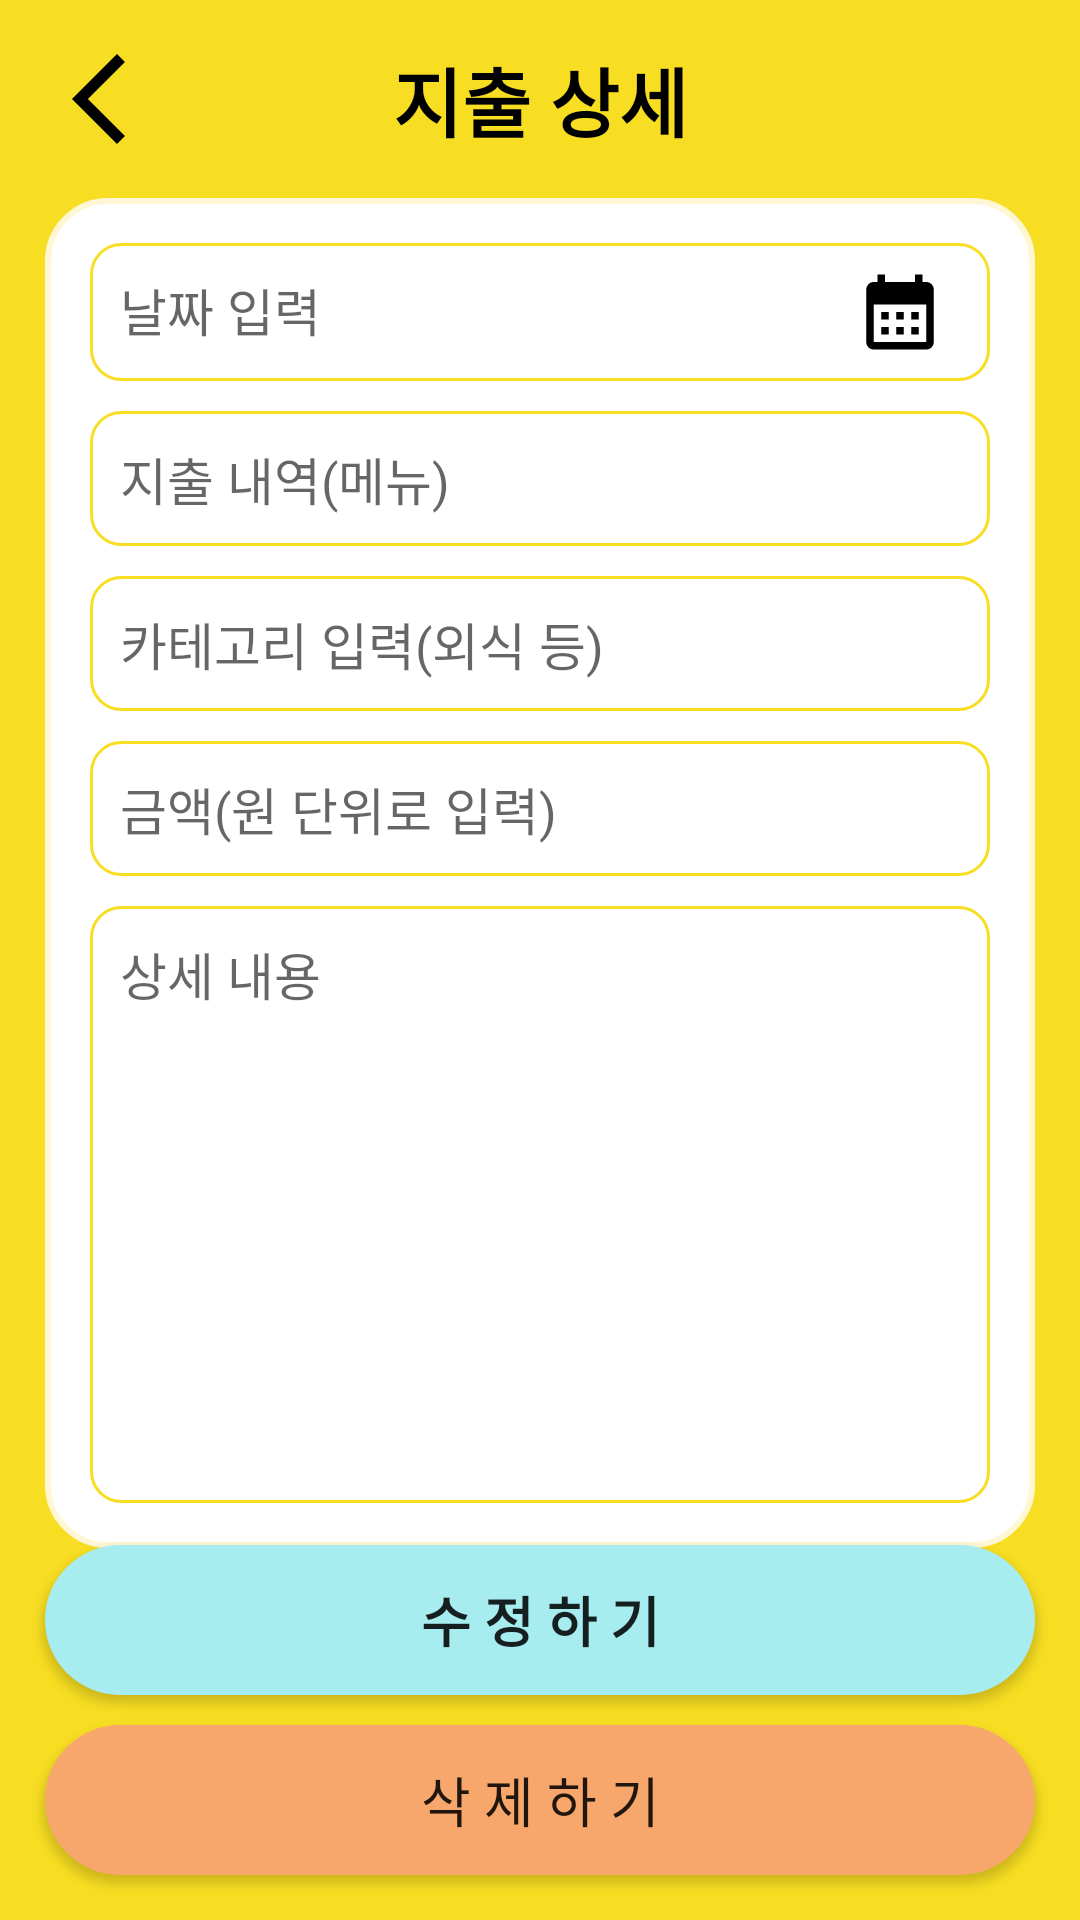

Where icons sit on this 1080*1920 app screen, as detection(x1, y1, x2, y2):
arrow back: detection(72, 54, 125, 144)
calendar month: detection(866, 274, 934, 350)
